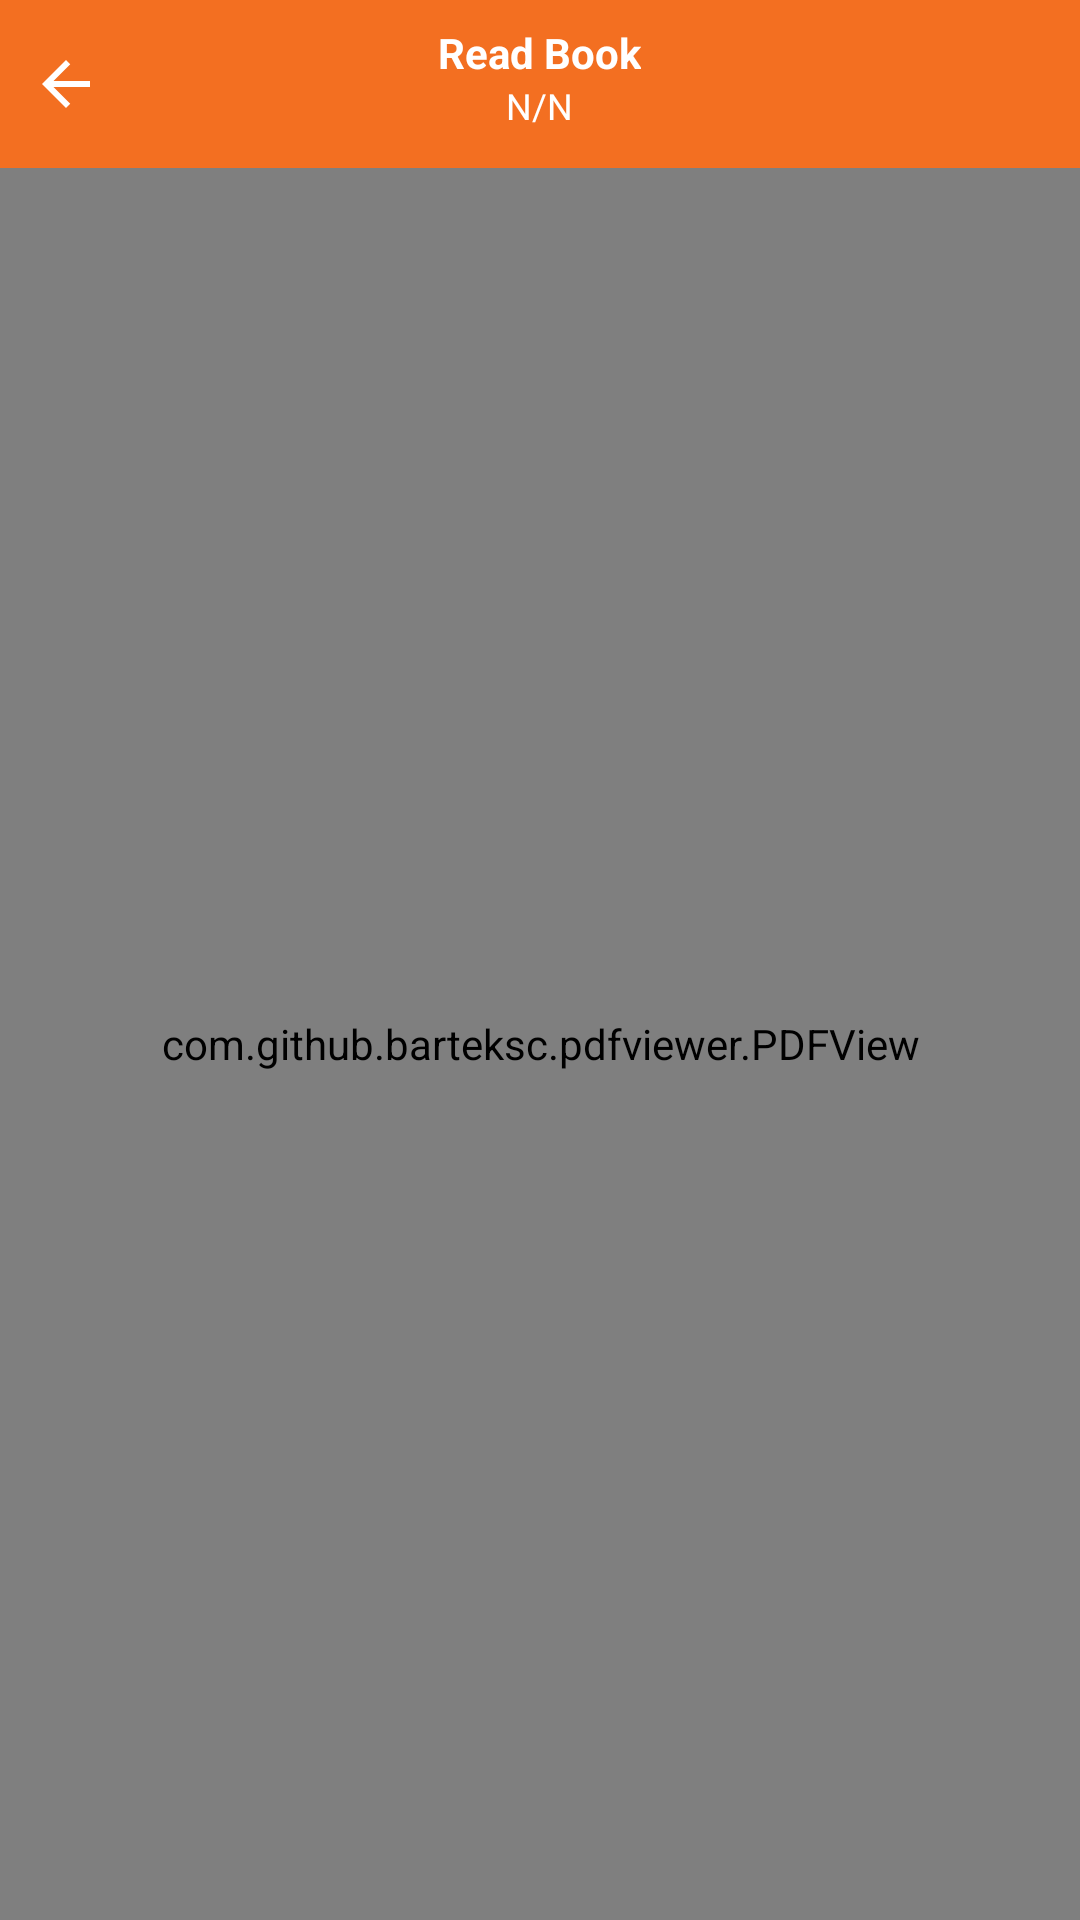

Icon click points for this 1080w x 1920h phone screenshot, format (x=x, y=y):
back: (x=66, y=84)
